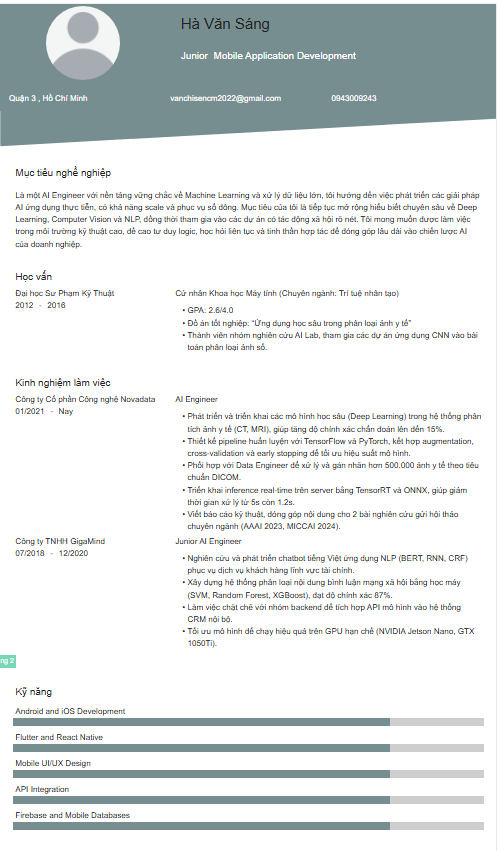address: (5, 86, 90, 109)
gpa: (180, 304, 235, 317)
level: (172, 45, 208, 67)
position: (213, 49, 360, 66)
skill: (7, 678, 161, 837)
